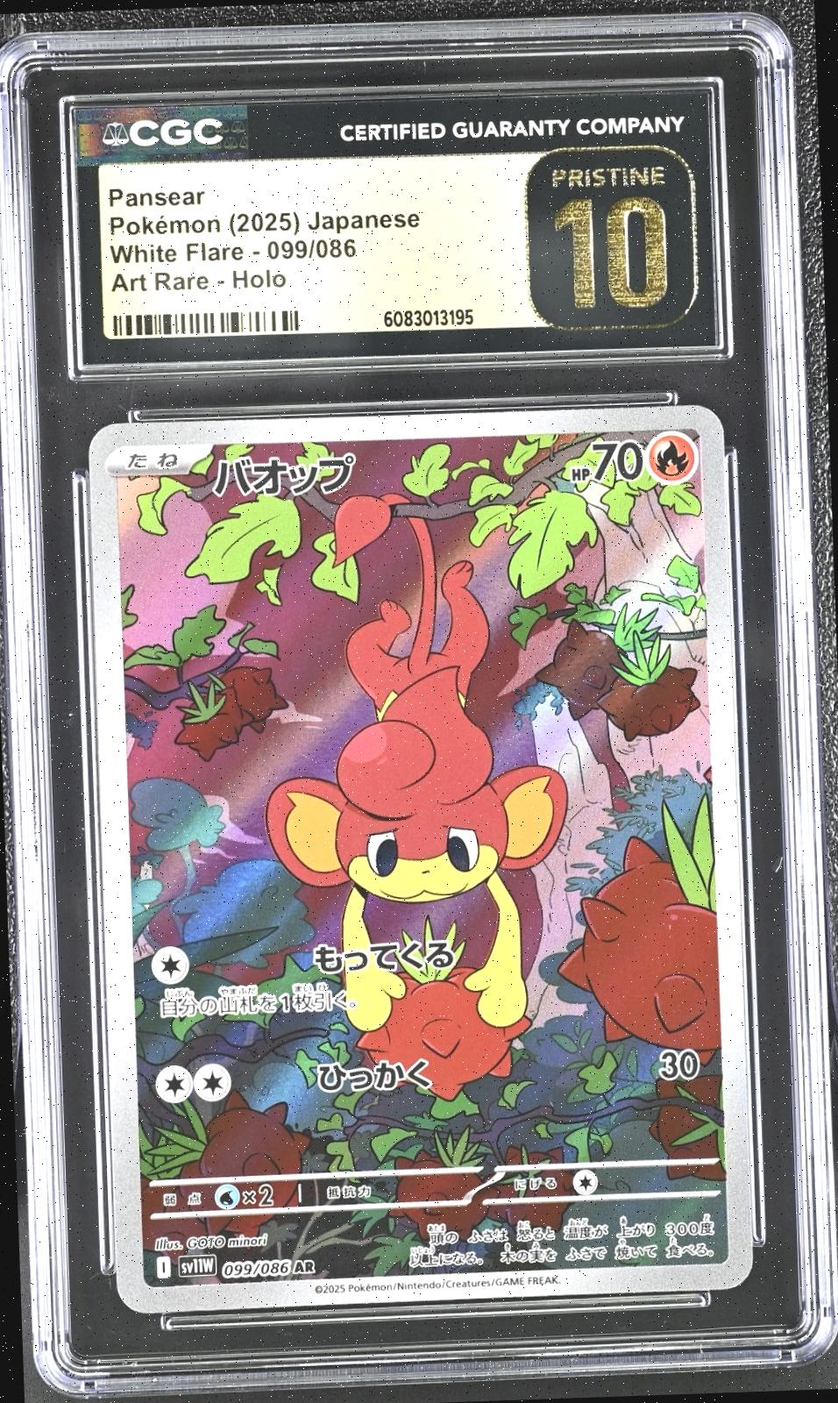card-2UtV: (87, 405, 753, 1314)
